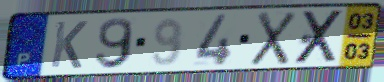4: (194, 12, 234, 68)
9: (93, 17, 136, 71), (150, 16, 187, 68)
K: (48, 20, 90, 71)
X: (292, 8, 348, 66), (248, 10, 299, 68)
